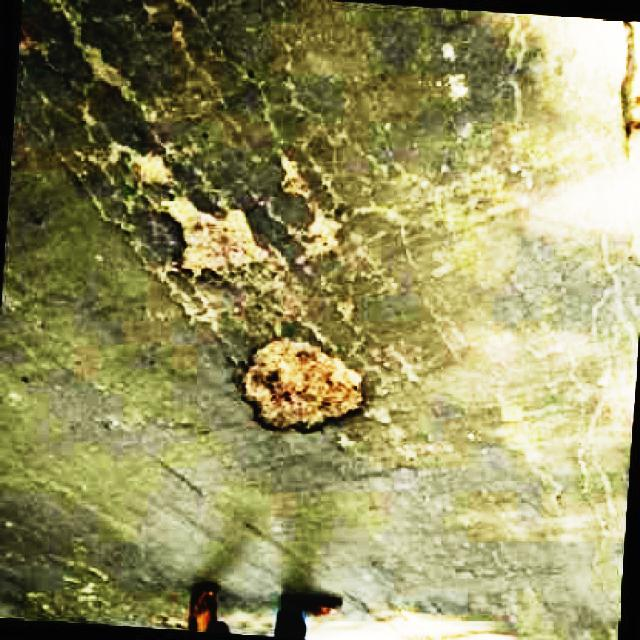pothole: (232, 331, 371, 435), (150, 190, 276, 284)
